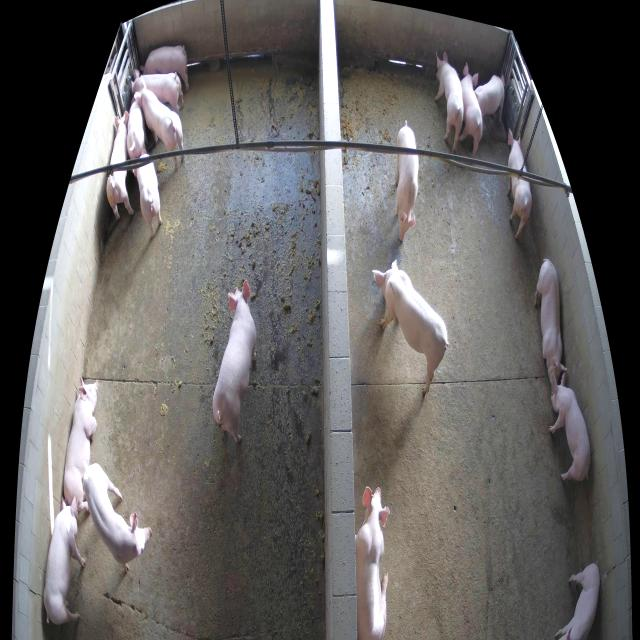pig: (372, 260, 449, 393), (83, 462, 153, 574), (213, 282, 256, 443), (44, 497, 86, 626), (355, 486, 390, 640), (63, 377, 99, 513), (134, 75, 185, 167), (549, 374, 590, 481), (534, 259, 568, 386), (554, 561, 600, 640), (107, 109, 134, 220), (435, 51, 463, 152), (507, 128, 532, 239), (395, 126, 418, 242), (132, 153, 162, 239), (140, 45, 188, 92), (131, 69, 183, 111), (460, 61, 482, 157), (475, 73, 505, 127), (127, 99, 146, 159)
